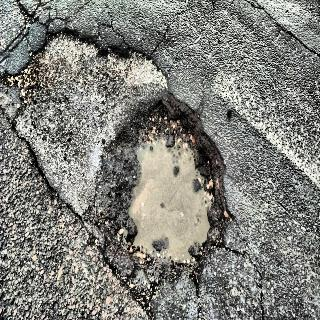crack: (216, 243, 266, 320)
pothole: (8, 18, 176, 220), (117, 87, 228, 277)
